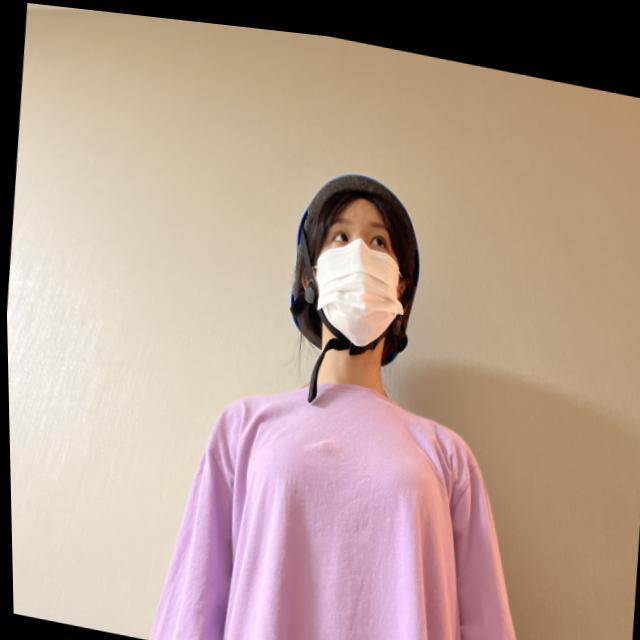Helmet: (276, 152, 420, 371)
